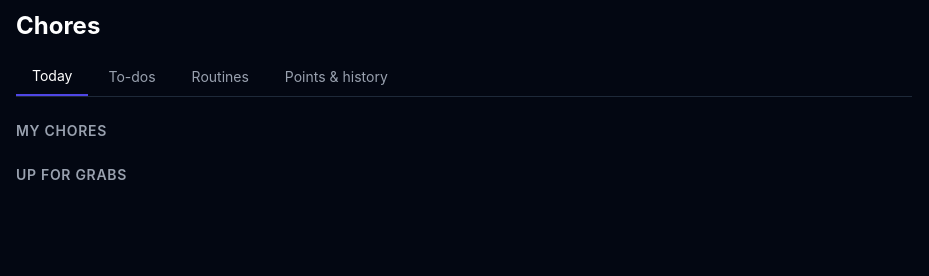
ChoresPage › To-dos › says when there is nothing to do
This screenshot has width=929, height=276.
Click the tab "To-dos" at (132, 77), box [92,58,172,96]
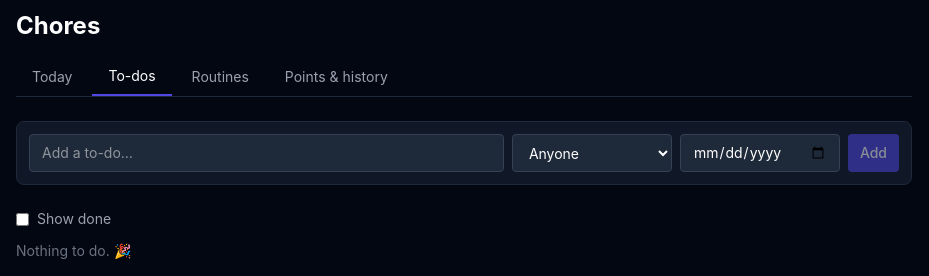
Expected: the text "Nothing to do. 🎉" is shown, [16,242,131,259]
